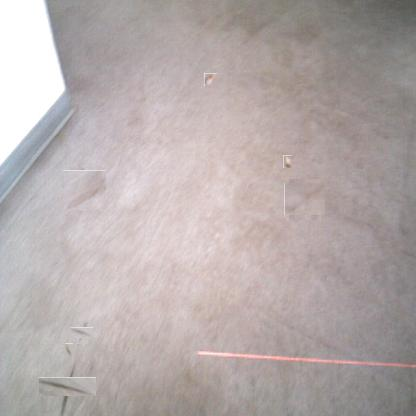dirty: (204, 73, 217, 86), (283, 155, 292, 168)
mark: (64, 169, 105, 210), (48, 368, 87, 406), (287, 181, 323, 218), (74, 325, 91, 341), (65, 343, 73, 356)
